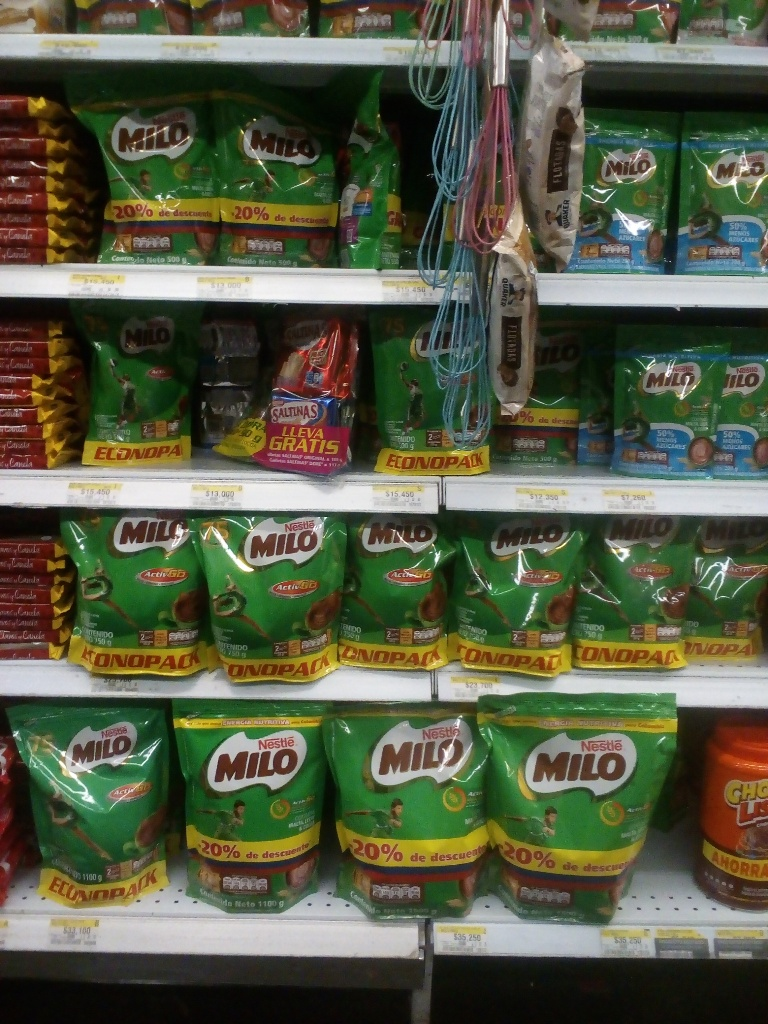COL0170103TRR00100: (699, 718, 768, 913)
COL0170203DYP50000: (61, 66, 221, 265)
COL0170205DYP20000: (569, 105, 677, 275)
